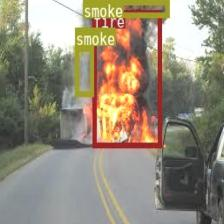fire: (92, 9, 161, 147)
smoke: (82, 0, 169, 17), (74, 45, 94, 96)
